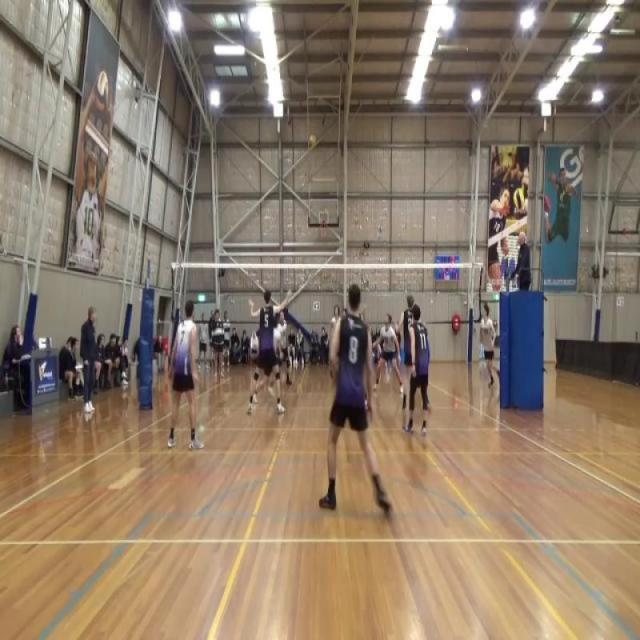volleyball: (94, 67, 110, 114), (513, 186, 526, 212), (308, 133, 318, 152)
